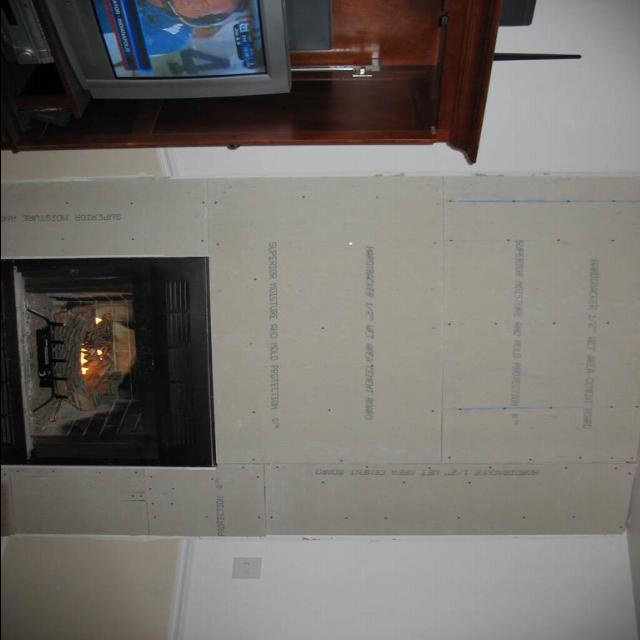Fire: (68, 307, 116, 373)
